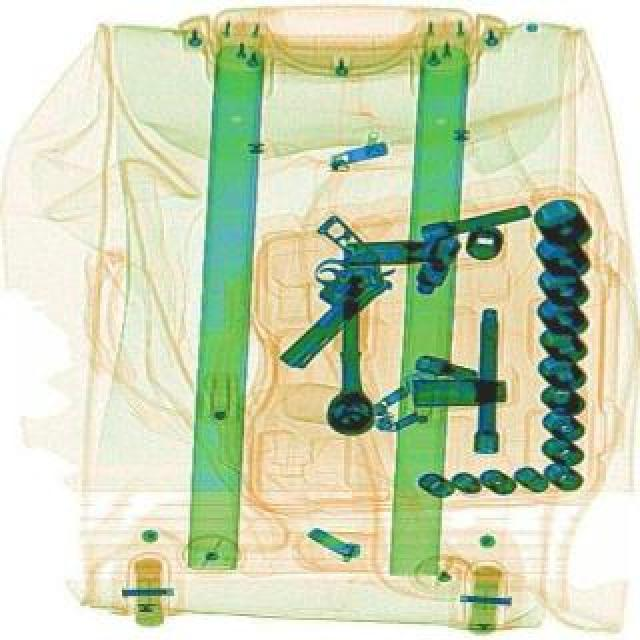gun: (224, 210, 404, 378)
